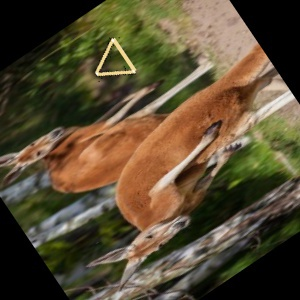triangle: (92, 34, 139, 81)
